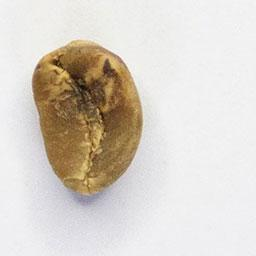defect: (29, 36, 147, 199)
